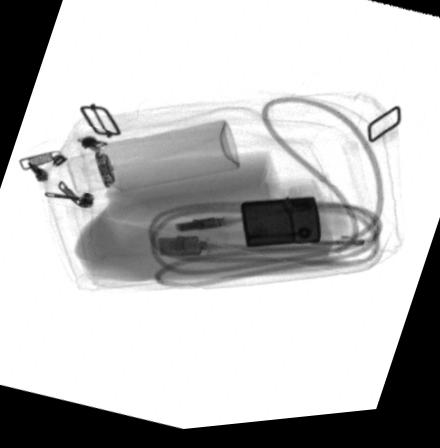Lighter: (241, 203, 319, 252)
Sprayer: (65, 125, 240, 195)
